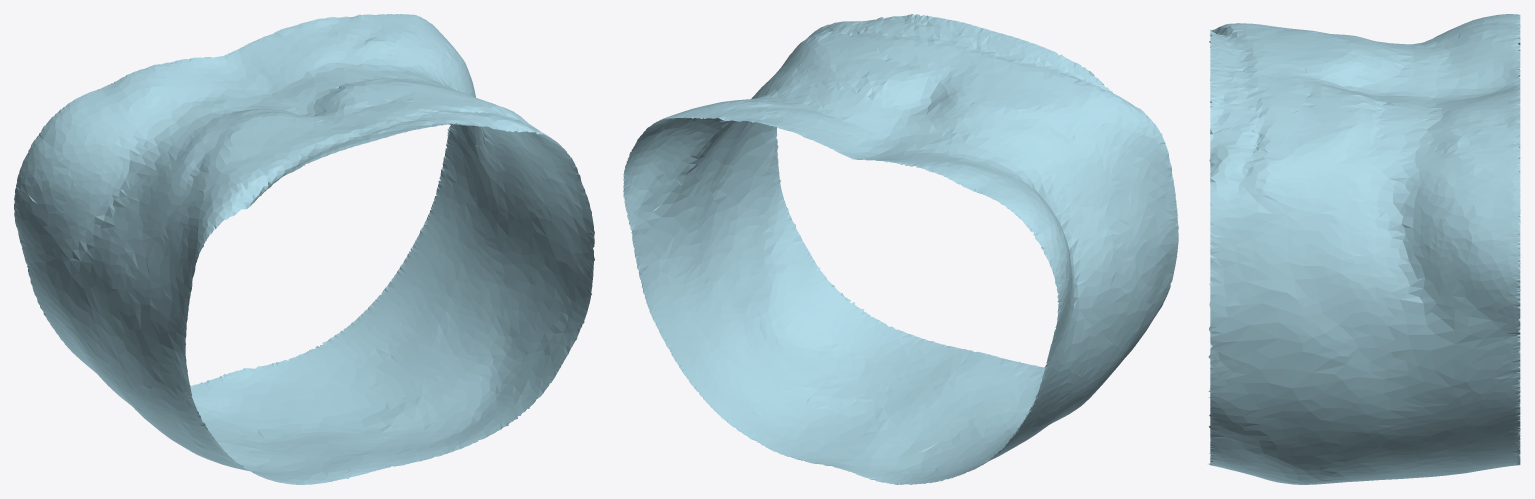
The model's file is skin.obj.
3 renders of one model, left to right at view 1: azimuth 30°, elevation 25°; view 2: azimuth 150°, elevation 25°; view 3: azimuth 270°, elevation 25°, orthographic. The views are drawn at different scales.
Visible parts, largest first — view 1: grp1; view 2: grp1; view 3: grp1.
Part boxes in pixels (x1=…): grp1: x1=14, y1=14, x2=594, y2=484; grp1: x1=623, y1=14, x2=1178, y2=484; grp1: x1=1208, y1=14, x2=1520, y2=484.
Size of the model in its own units: 334 by 257 by 194.
